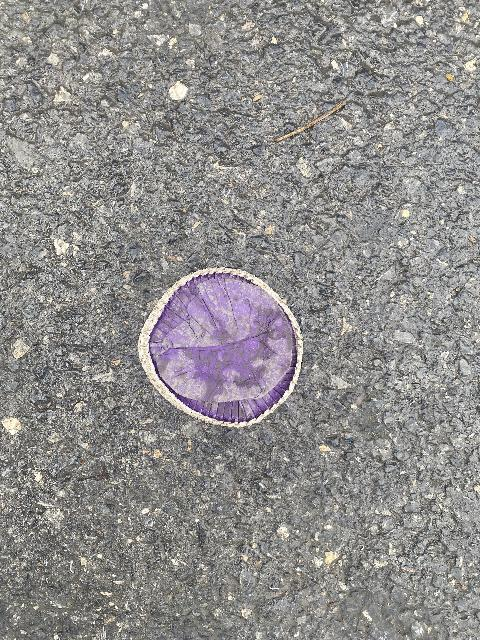Kagit: (137, 265, 305, 432)
